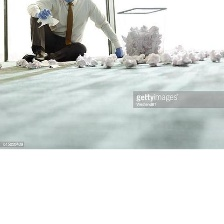book: (117, 18, 163, 62), (156, 43, 224, 70), (33, 13, 63, 28), (142, 48, 162, 67), (98, 51, 117, 69), (25, 54, 45, 70), (73, 49, 88, 69), (83, 53, 101, 69), (123, 50, 138, 69), (47, 53, 60, 70), (14, 58, 29, 67)
